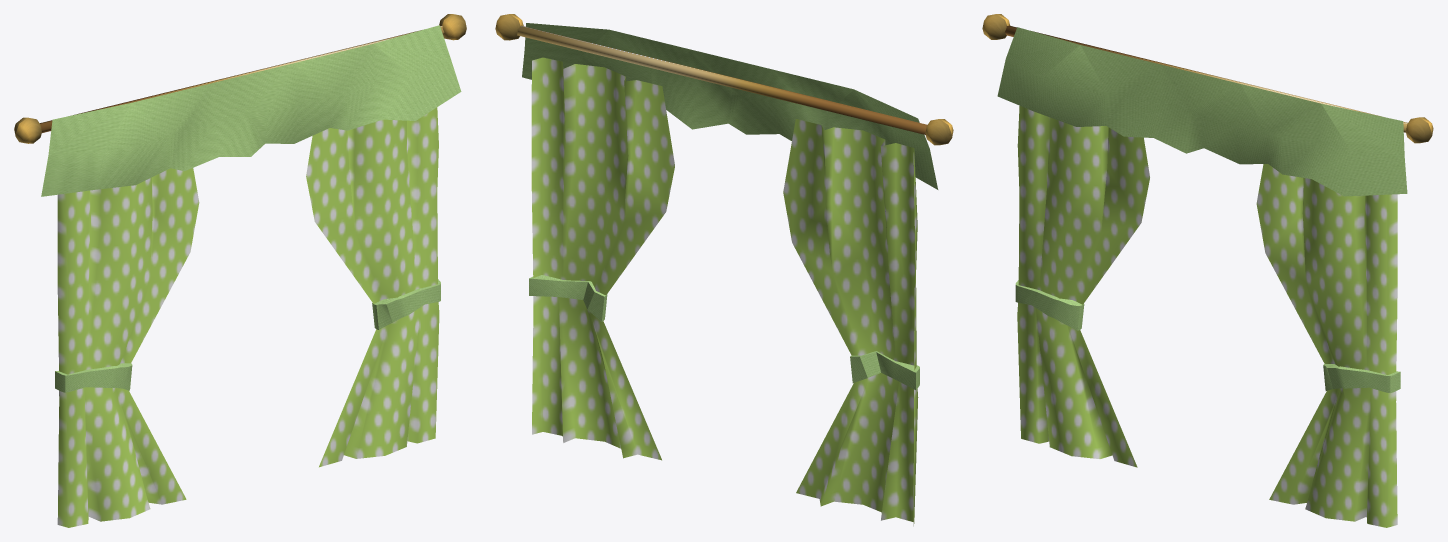
Rendered from Curtains_01_A.FBX.
The picture shows the model from 3 angles, left to right: view 1: azimuth 30°, elevation 25°; view 2: azimuth 150°, elevation 25°; view 3: azimuth 330°, elevation 25°; orthographic projection.
Visible parts, largest first — view 1: Curtains_01; view 2: Curtains_01; view 3: Curtains_01.
Part boxes in pixels (x1,y1,x2,y2): Curtains_01: (14,14,466,527); Curtains_01: (495,14,953,526); Curtains_01: (982,14,1433,527).
Size of the model in its own units: 251 by 221 by 25.59.
